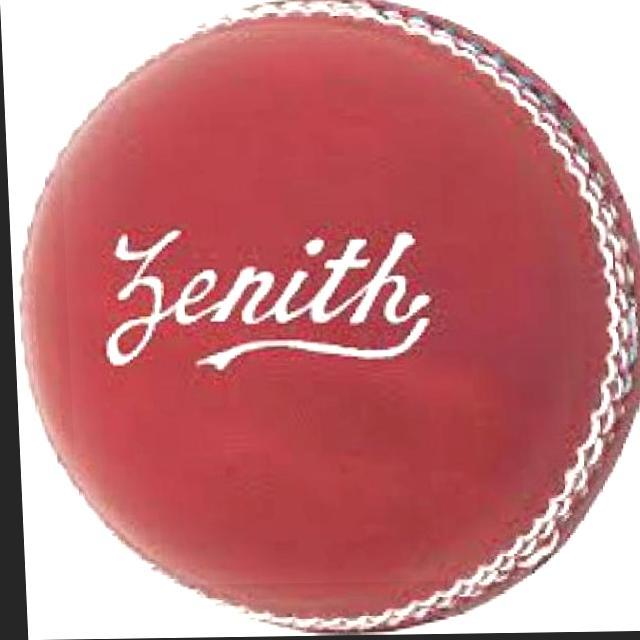-: (55, 28, 640, 586)
